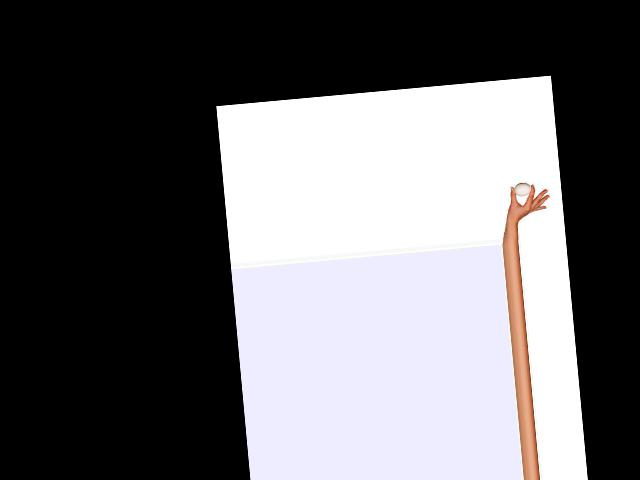egg: (513, 181, 531, 196)
